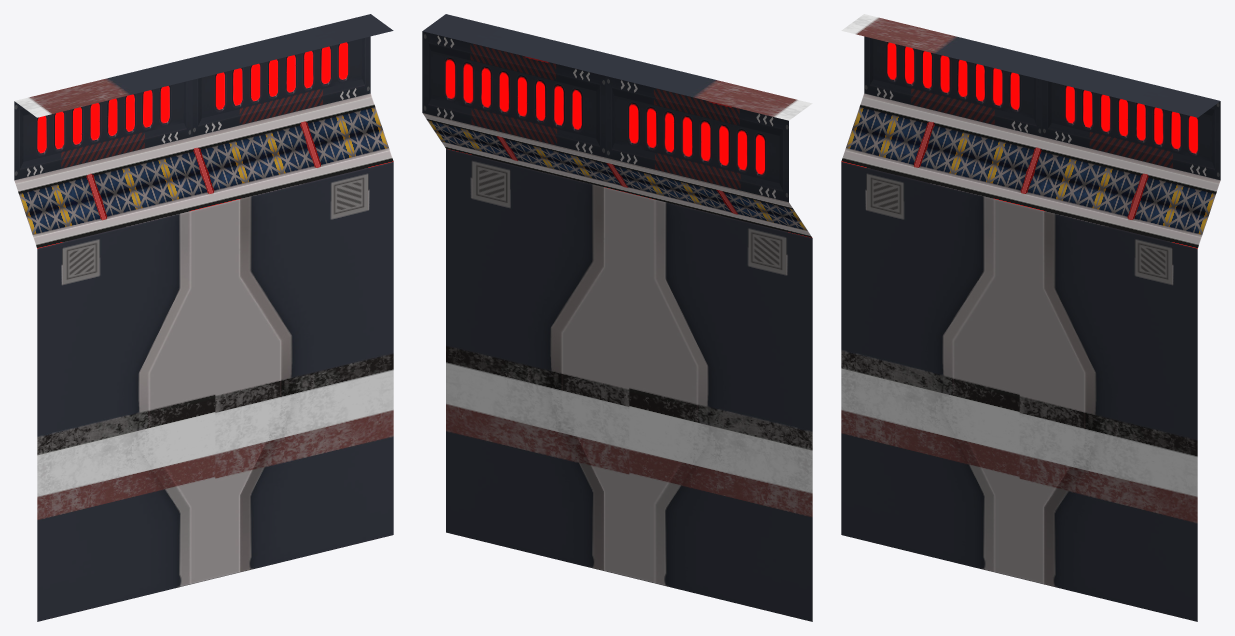
File: FUT0510021.fbx
The picture shows the model from 3 angles, left to right: view 1: azimuth 30°, elevation 25°; view 2: azimuth 150°, elevation 25°; view 3: azimuth 330°, elevation 25°; orthographic projection. The views are drawn at different scales.
Visible parts, largest first — view 1: smFUT0510021; view 2: smFUT0510021; view 3: smFUT0510021.
Boxes of the visible parts, x1,y1,x2,y2 form: smFUT0510021: (14,14,393,621); smFUT0510021: (422,14,812,621); smFUT0510021: (841,14,1220,621).
Bounding box in the file's own units: 352 × 476 × 39.28.
Materials: 1 (1 with a texture image).
